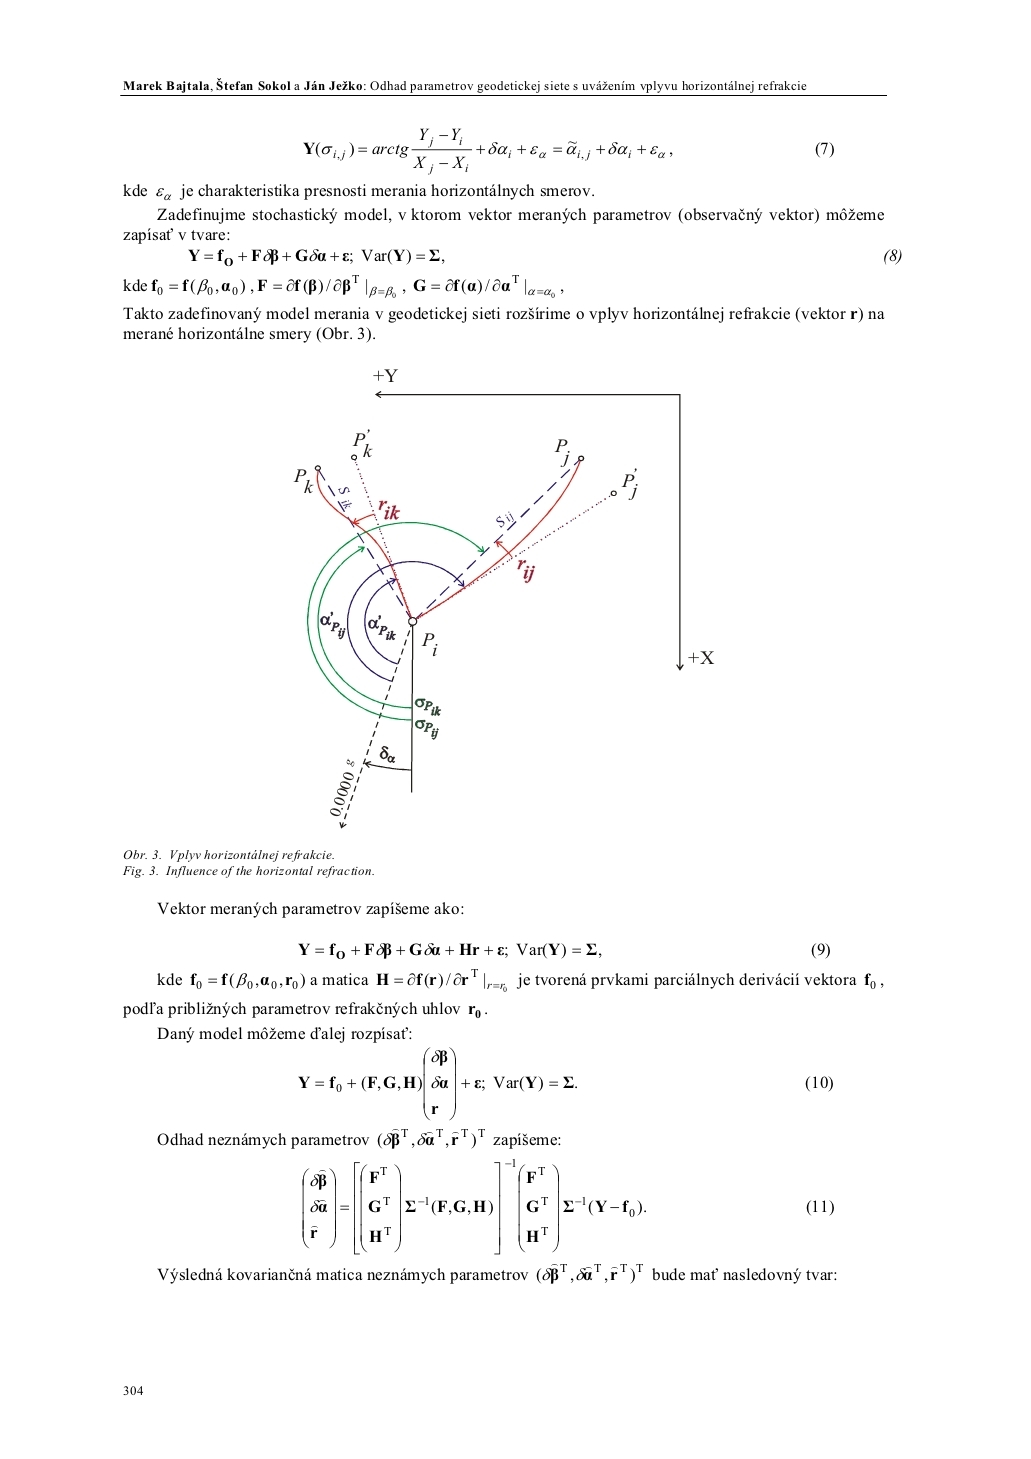figure: (293, 369, 714, 828)
formula: (302, 1158, 834, 1255), (298, 1046, 832, 1121), (303, 127, 834, 175), (123, 274, 563, 298), (298, 941, 829, 960), (187, 248, 444, 267)
